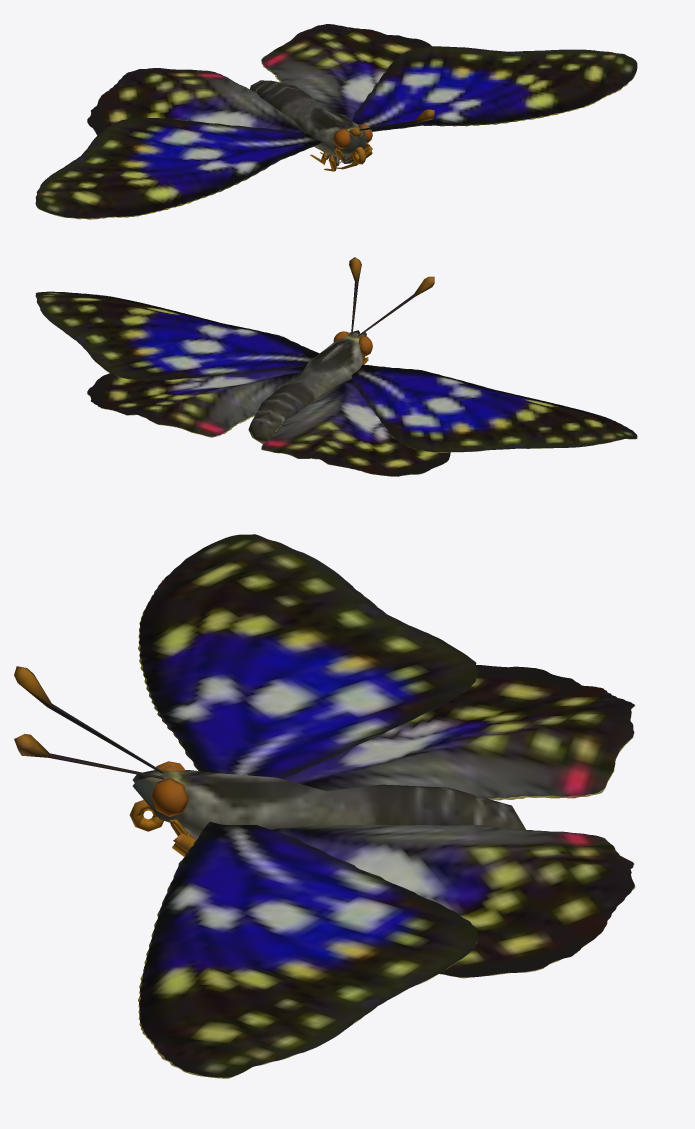
File: great-purple-emperor.glb
The picture shows the model from 3 angles, top to bottom: view 1: azimuth 30°, elevation 25°; view 2: azimuth 150°, elevation 25°; view 3: azimuth 270°, elevation 25°; orthographic projection. The views are drawn at different scales.
Size of the model in its own units: 6.64 by 0.9327 by 3.12.
1 material, 1 textured.
